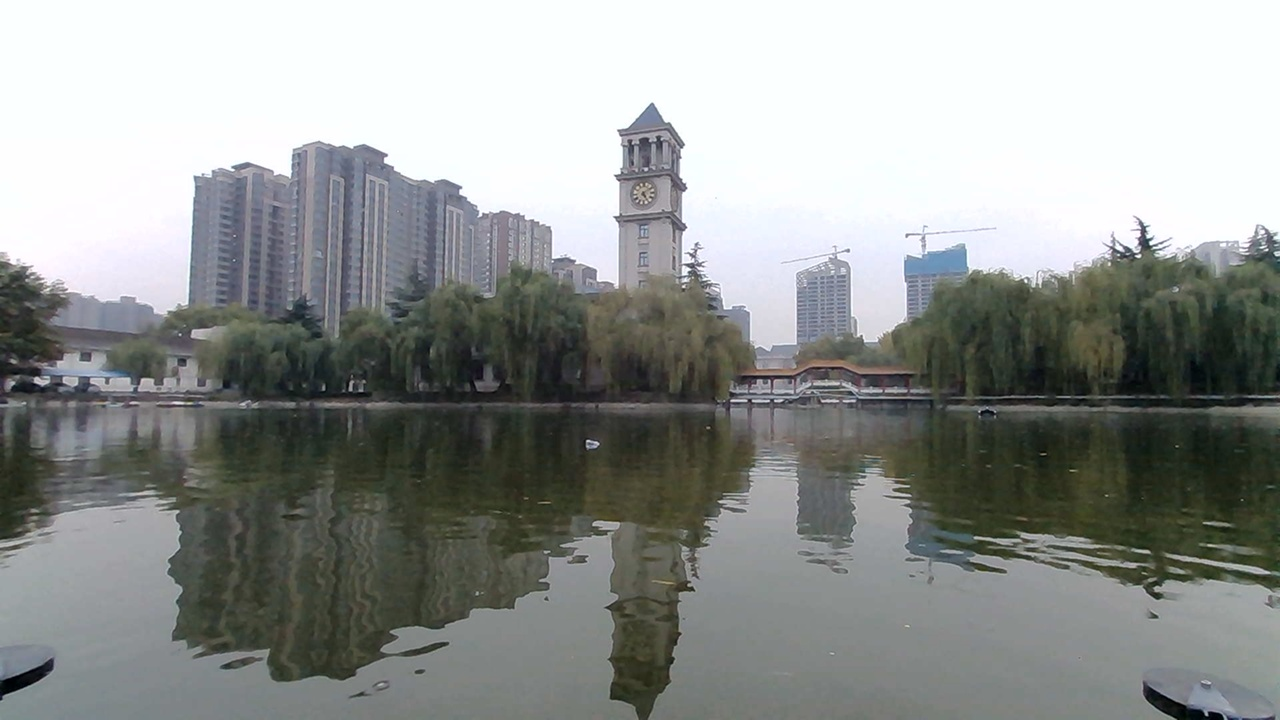bottle: (574, 422, 626, 460)
